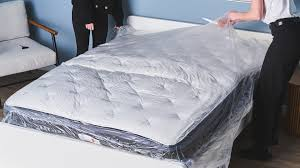bed-matress: (2, 28, 278, 162)
